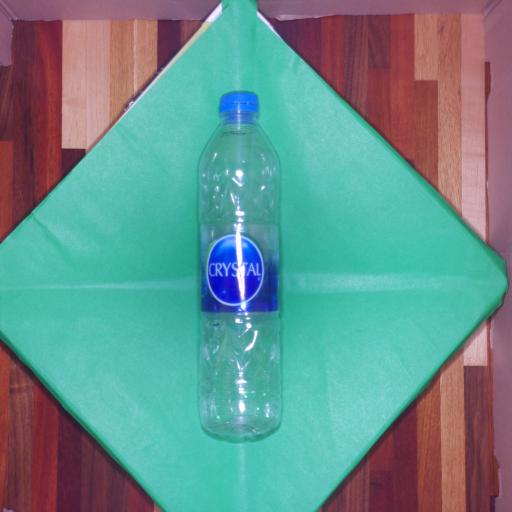bottle: (194, 80, 286, 441)
